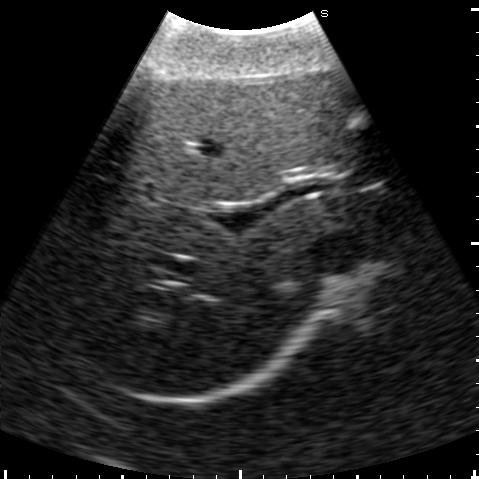IVC: (313, 233, 363, 272)
S1: (320, 193, 404, 257)
S3: (320, 68, 409, 186)
S4: (135, 72, 337, 205)
Tumor: (345, 110, 365, 128)
